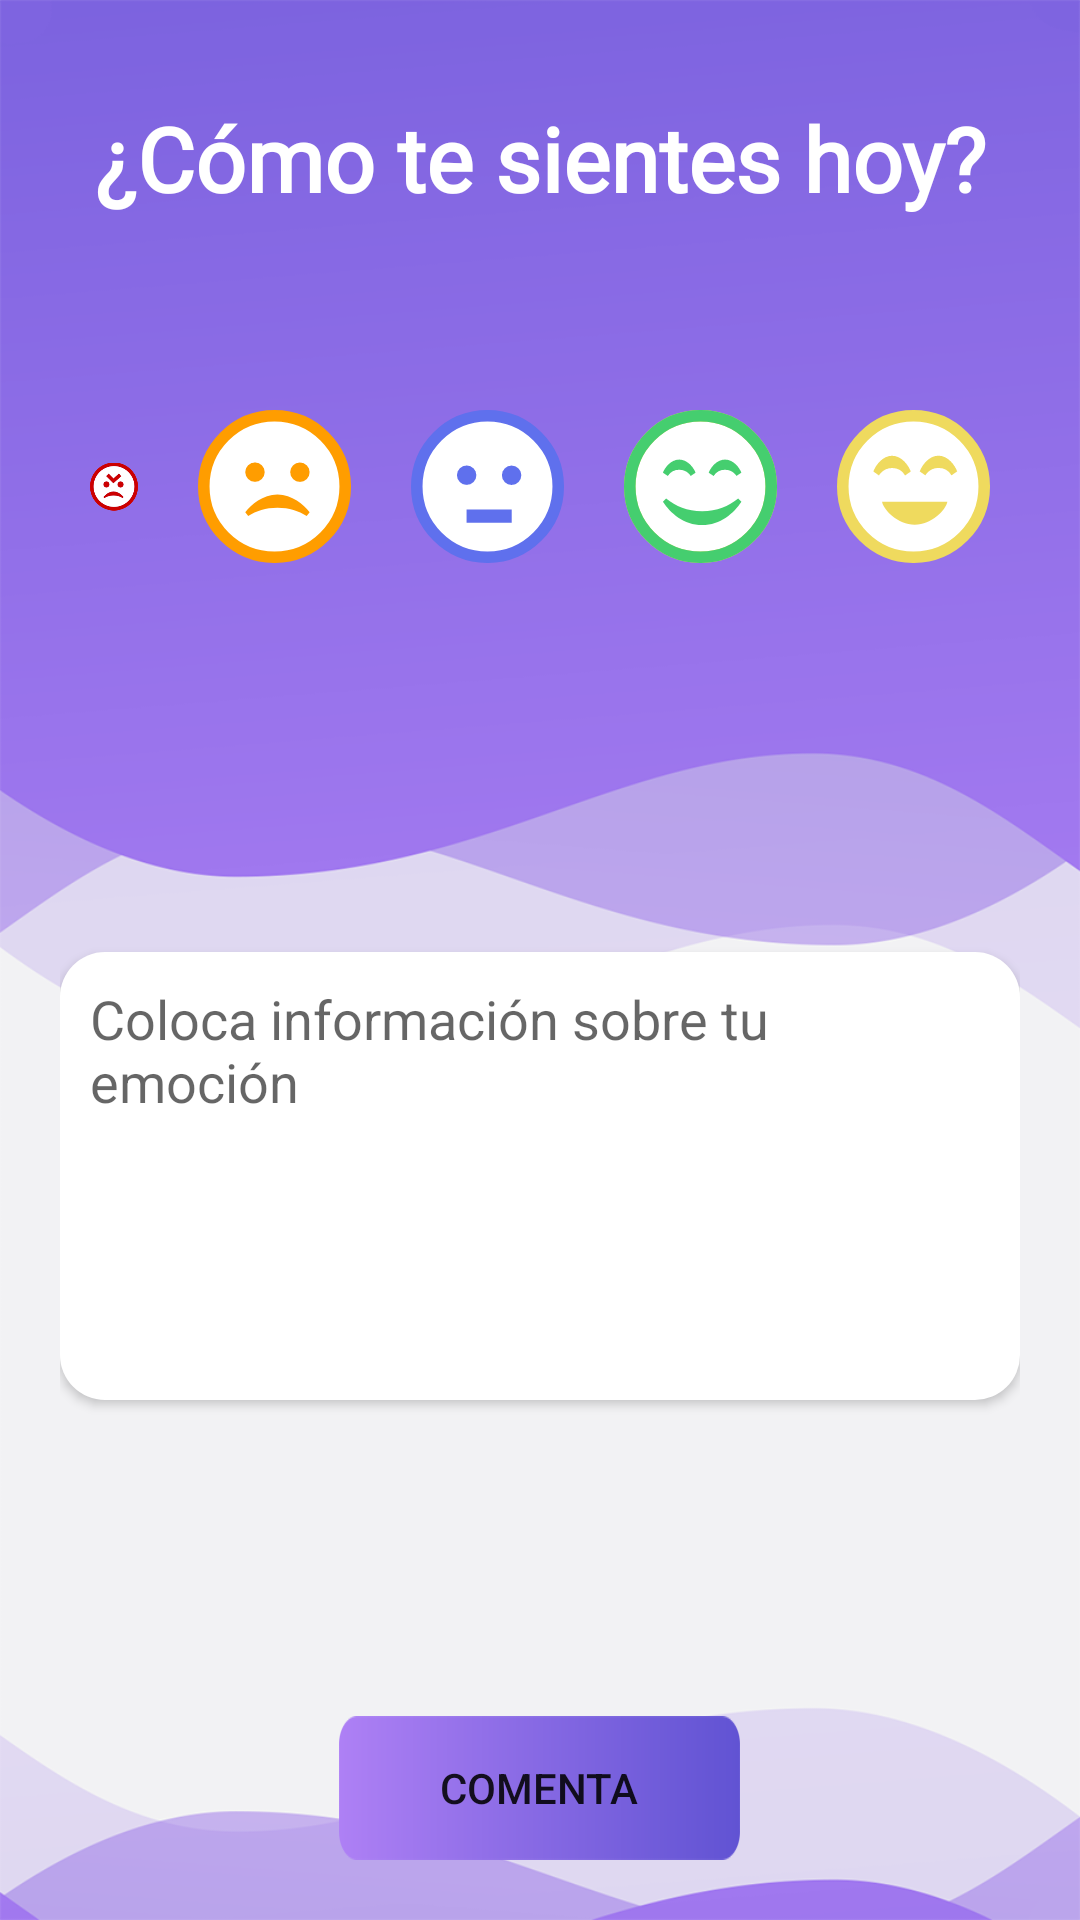

Named icons in this screenshot (1080x1920) and their bounding boxes, (x1, y1, x2, y2):
enojado: (90, 463, 138, 511)
estresado: (198, 410, 351, 563)
tranquilo: (411, 410, 564, 563)
